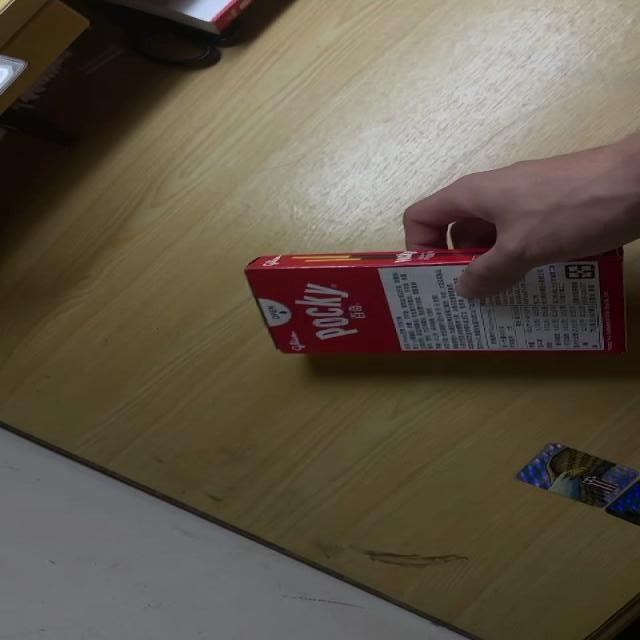Pocky: (245, 243, 625, 358)
